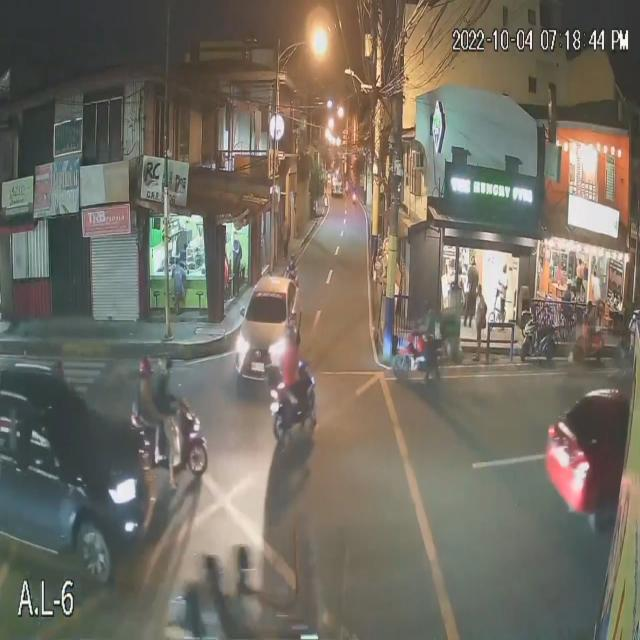Full-Faced: (156, 351, 176, 380), (137, 351, 155, 381)
